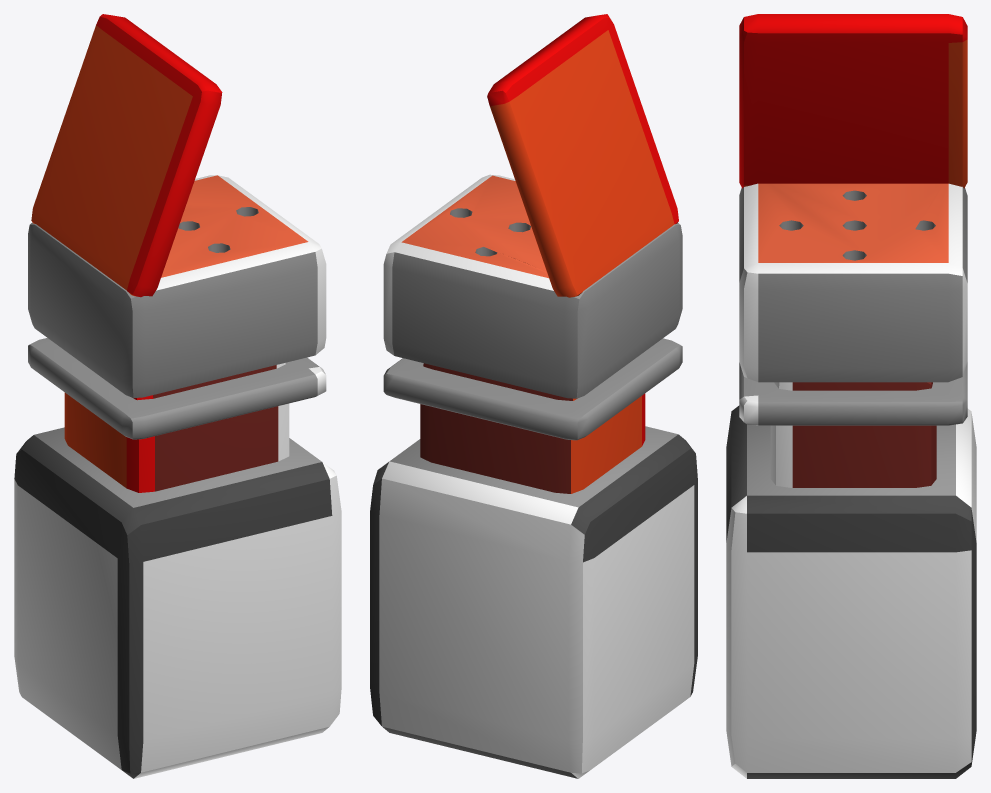
Rendered from SMALL BOTTEL.FBX.
The picture shows the model from 3 angles, left to right: view 1: azimuth 30°, elevation 25°; view 2: azimuth 150°, elevation 25°; view 3: azimuth 270°, elevation 25°; orthographic projection. The views are drawn at different scales.
Parts seen in each view (by area): view 1: Box008; view 2: Box008; view 3: Box008.
Boxes of the visible parts, x1,y1,x2,y2 form: Box008: [14, 14, 341, 778]; Box008: [370, 14, 697, 778]; Box008: [726, 14, 976, 778].
Size of the model in its own units: 174 by 509 by 164.
